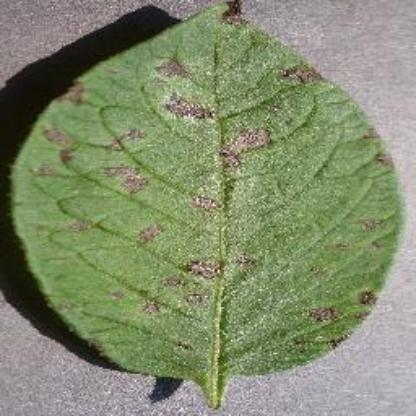Early-Blight: (11, 4, 407, 398)
